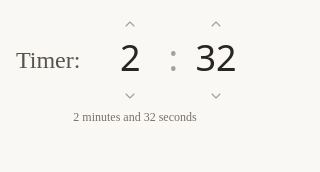
Scenario: TimerController › decrements the minutes while preserving the seconds
The width and height of the screenshot is (320, 172).
Expected: the 1st field named "Minutes" holds "2", [96, 38, 164, 78]
Expected: the 2nd field named "Seconds" holds "32", [182, 38, 250, 78]
Click the button named "Decrement Minutes": (130, 96) [92, 84, 168, 108]
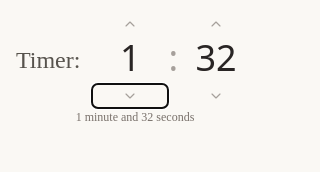
Expected: the 2nd field named "Seconds" holds "32", [182, 38, 250, 78]
Expected: the 1st field named "Minutes" holds "1", [96, 38, 164, 78]
